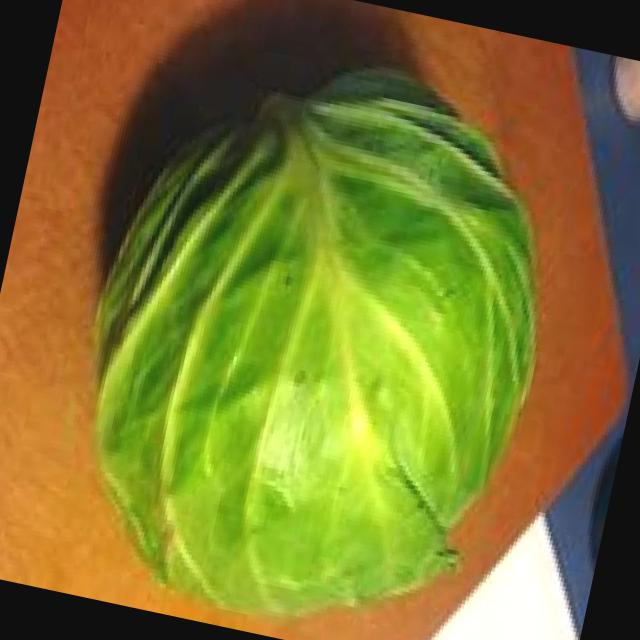cabbage: (38, 16, 615, 640)
